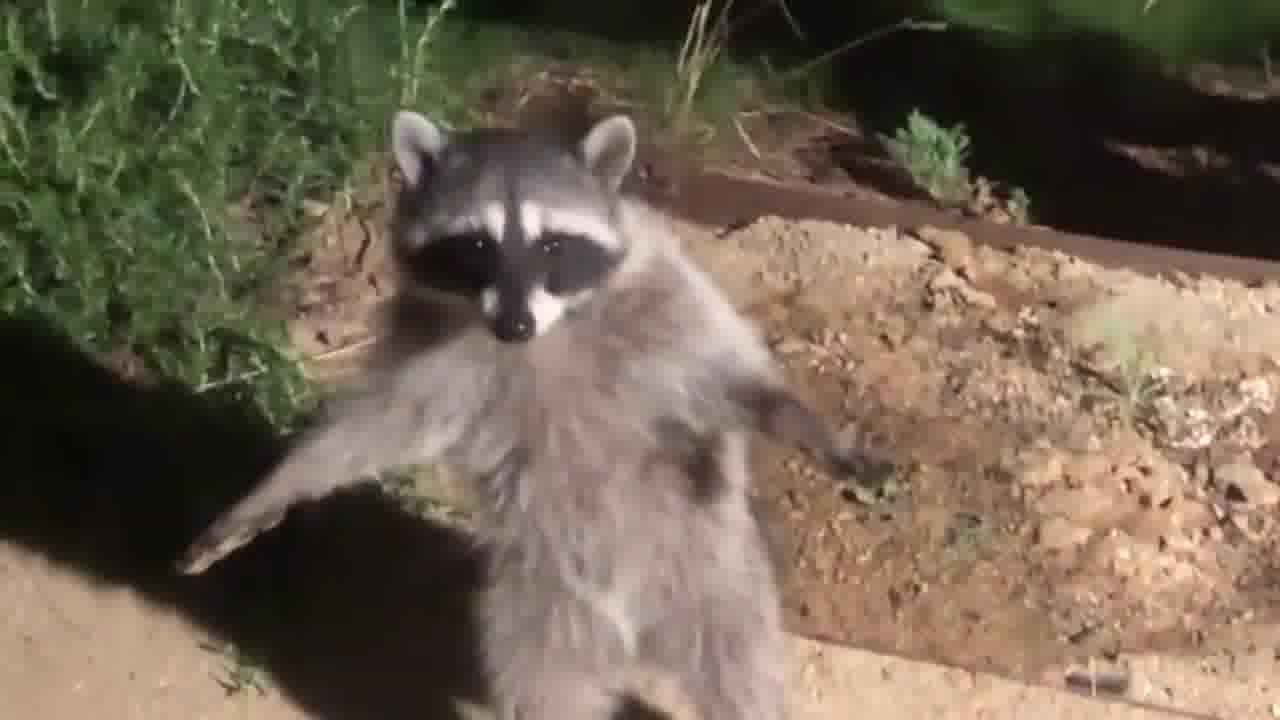raccoon: (172, 91, 904, 720)
